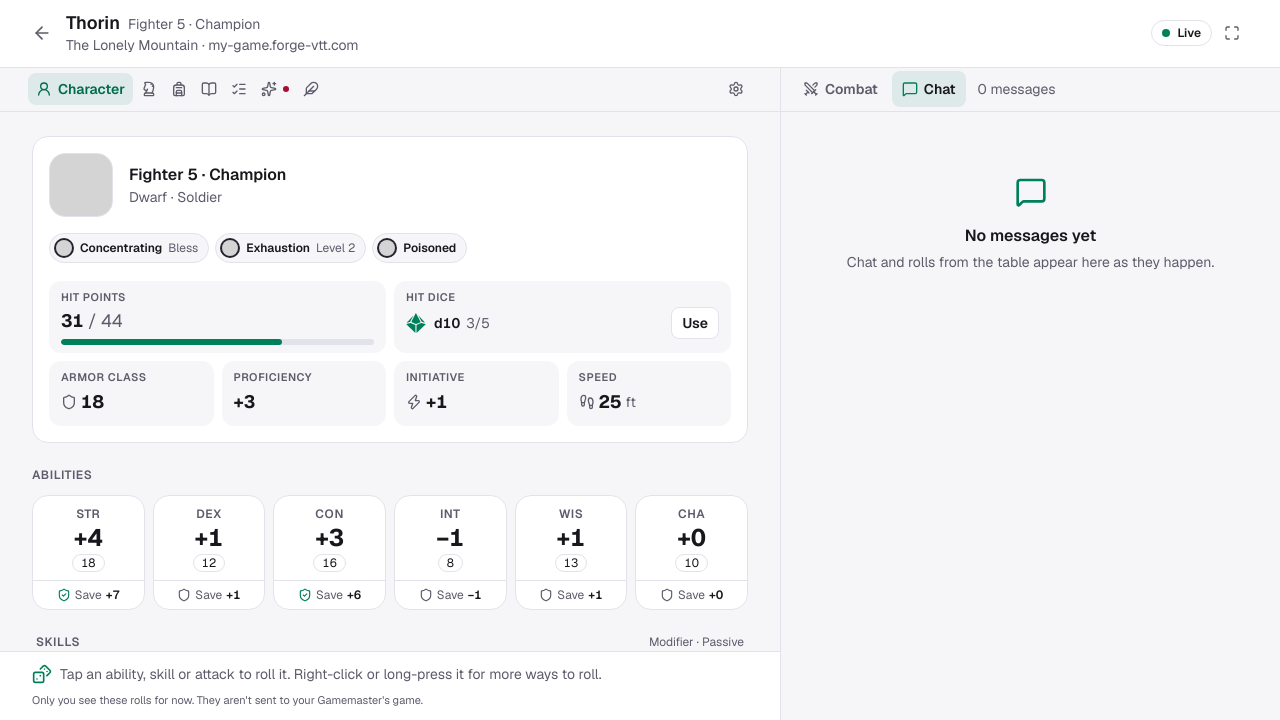
it: components/game-table, removing an item, from module 0.33.0 › removes part of a stack through the seat, with moves off, closing at once and saying so in the tray
This screenshot has width=1280, height=720.
Click the tab named "Inventory" at (179, 89), box [165,73,193,105]
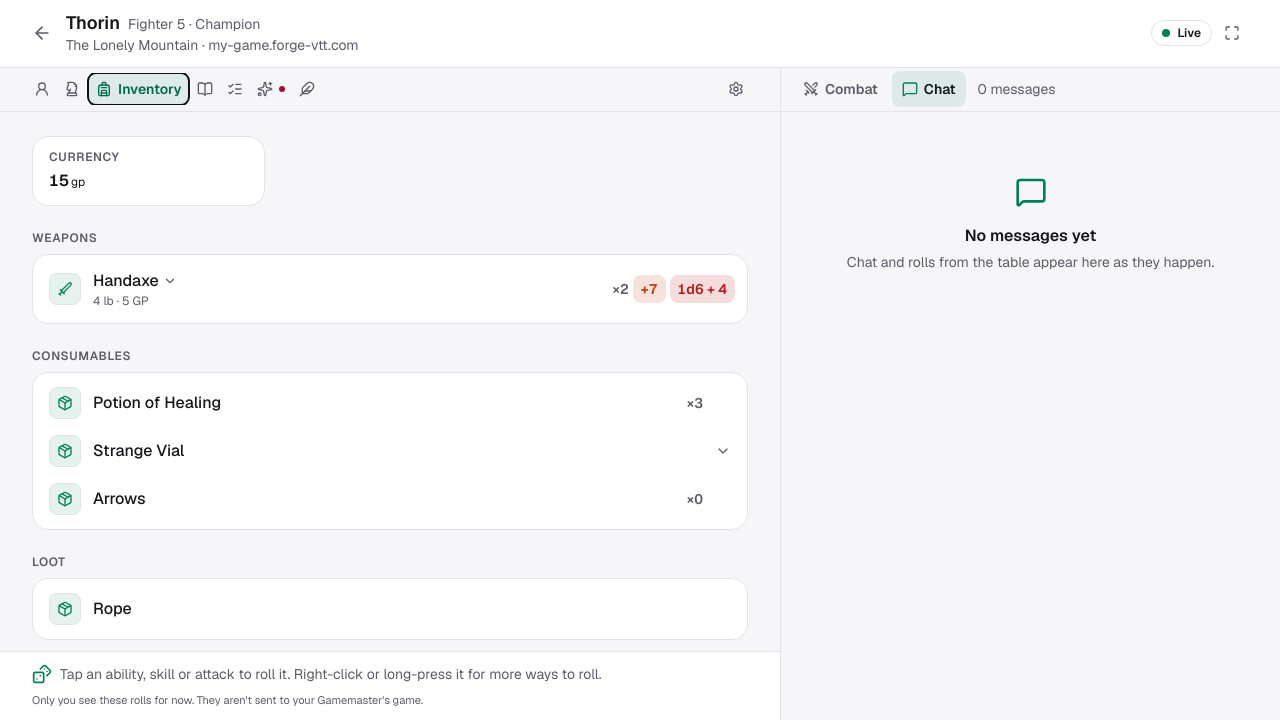
Right-click the element showing "Potion of Healing ×3" at (65, 402), box [39,378,741,426]
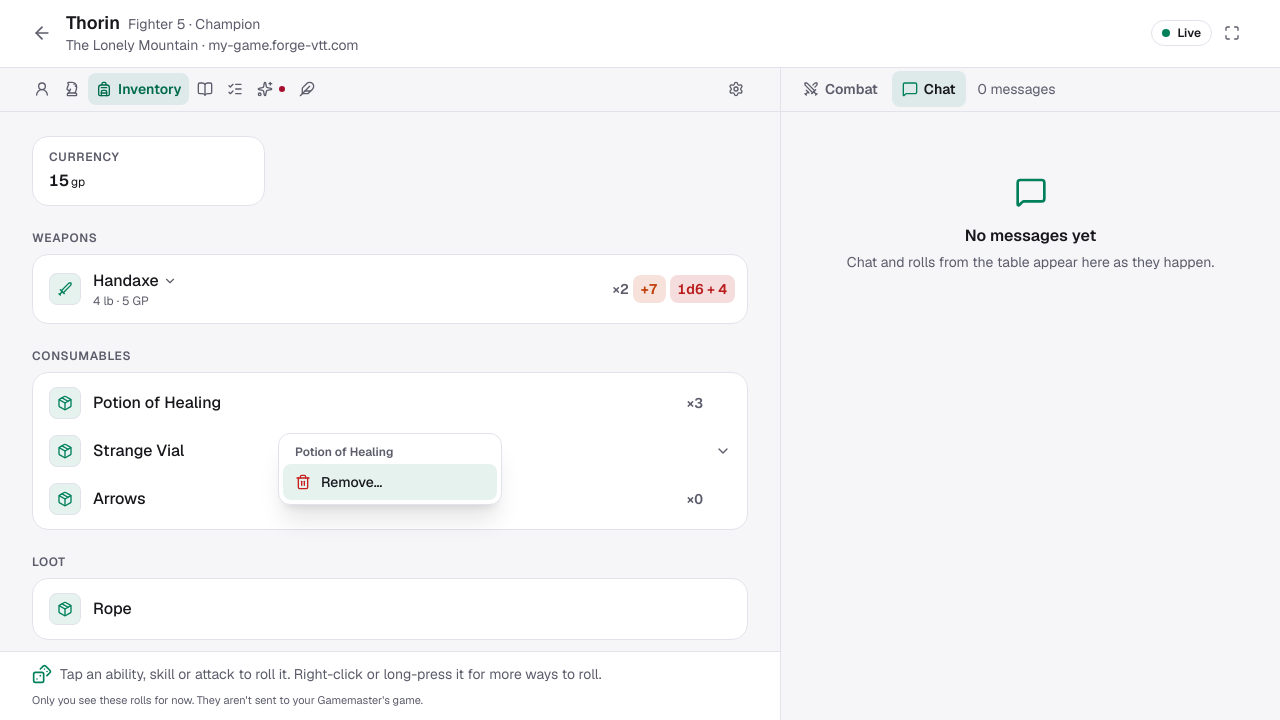
Click the menu item "Remove…" at (390, 482), box [283,464,497,500]
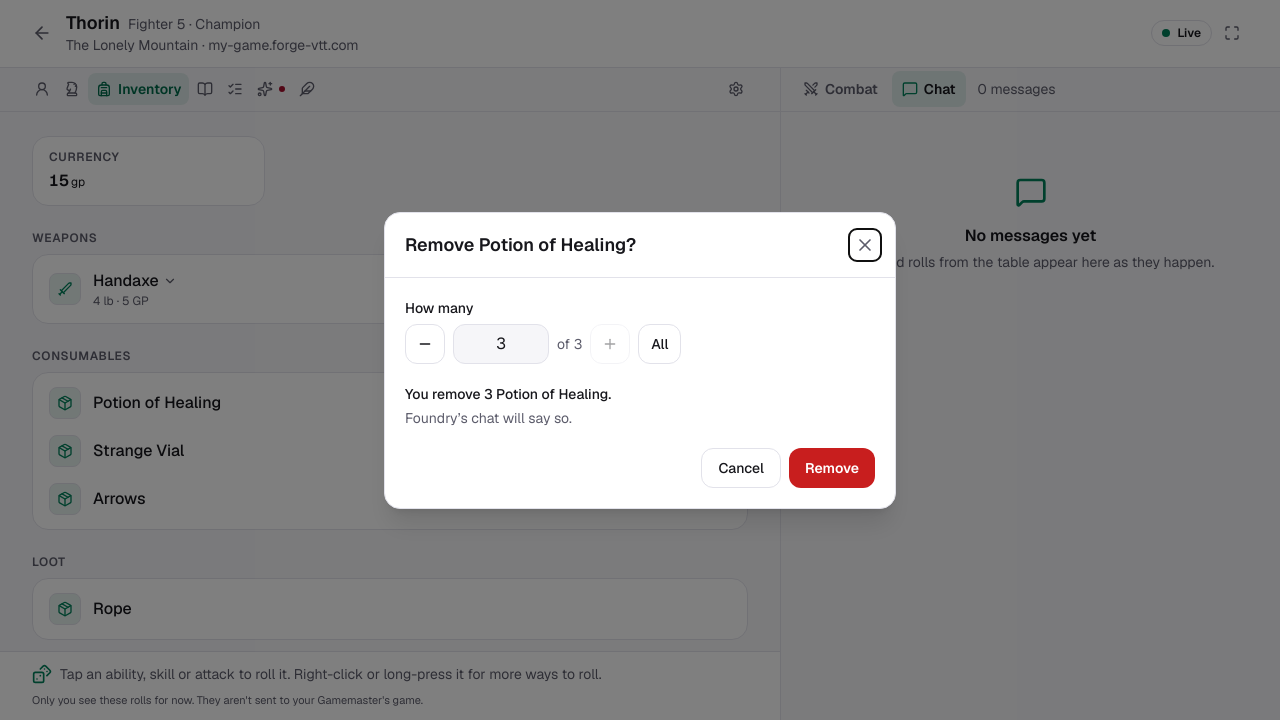
Click the button named "One fewer" at (425, 344), box [405,324,445,364]
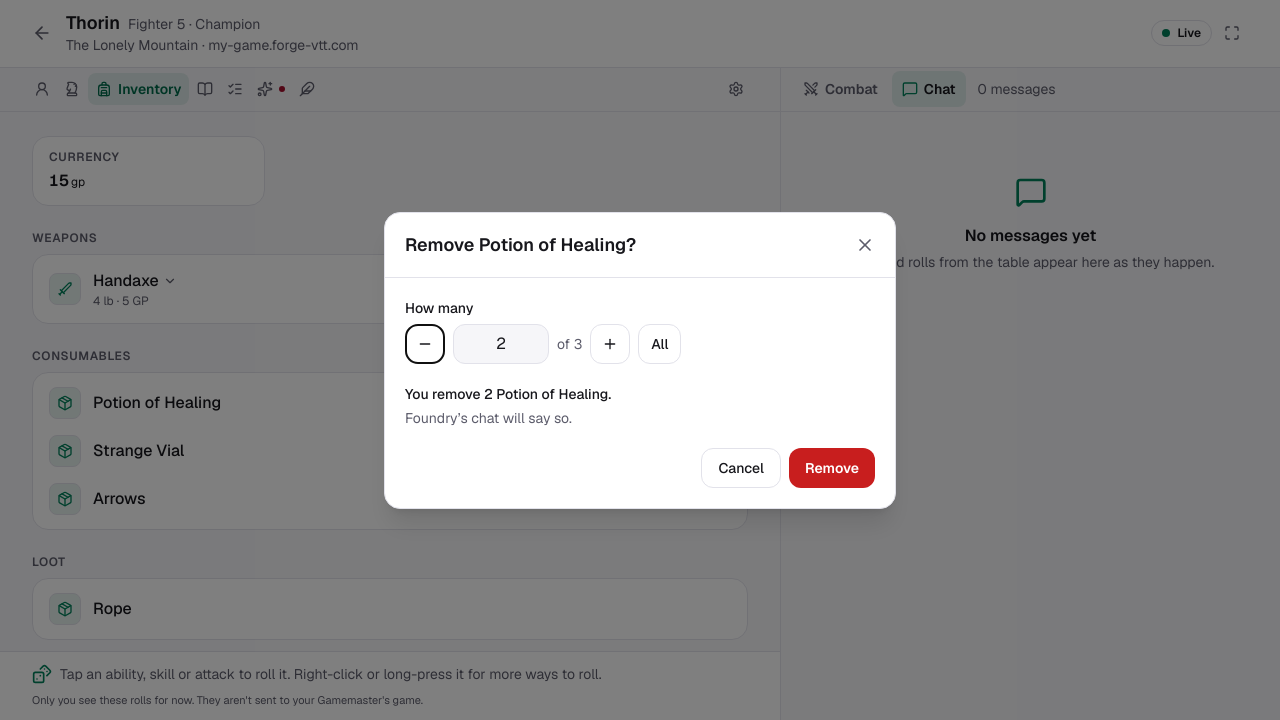
Click the button "Remove" at (832, 468), box [789,448,875,488]
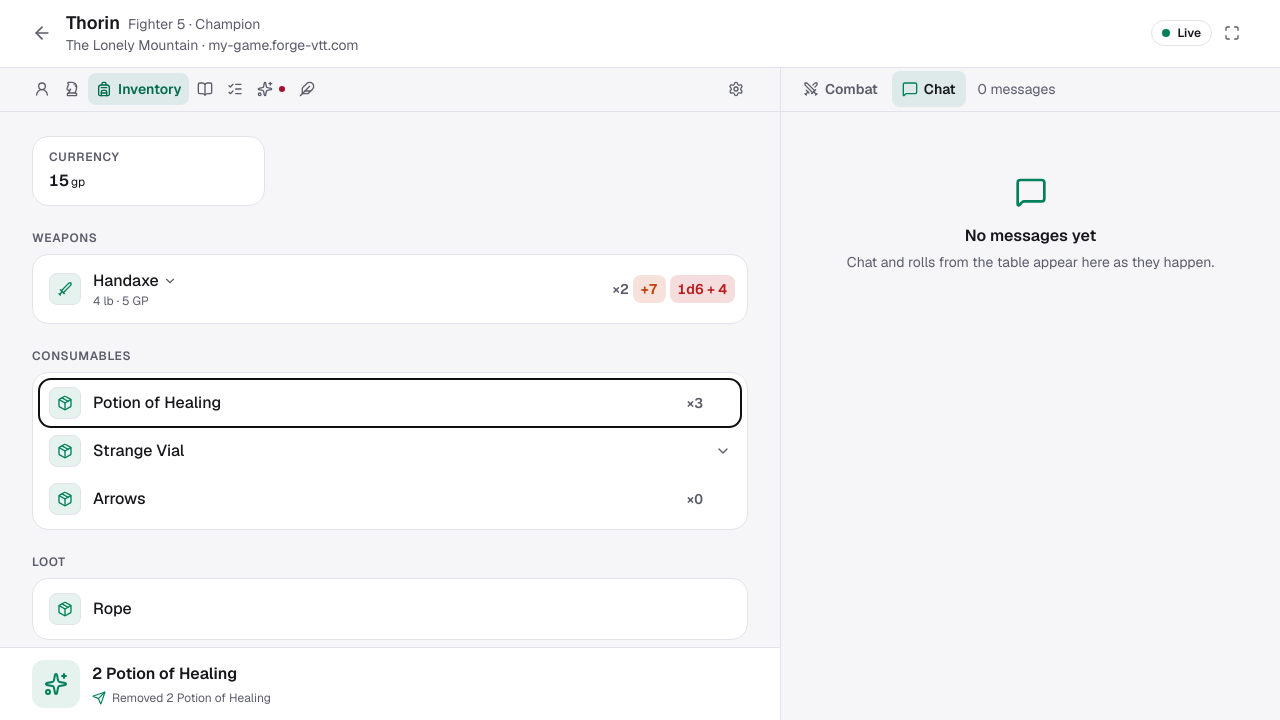
Check: the dialog is gone
Check: the text "Removed 2 Potion of Healing" is shown, box [112,690,271,706]
